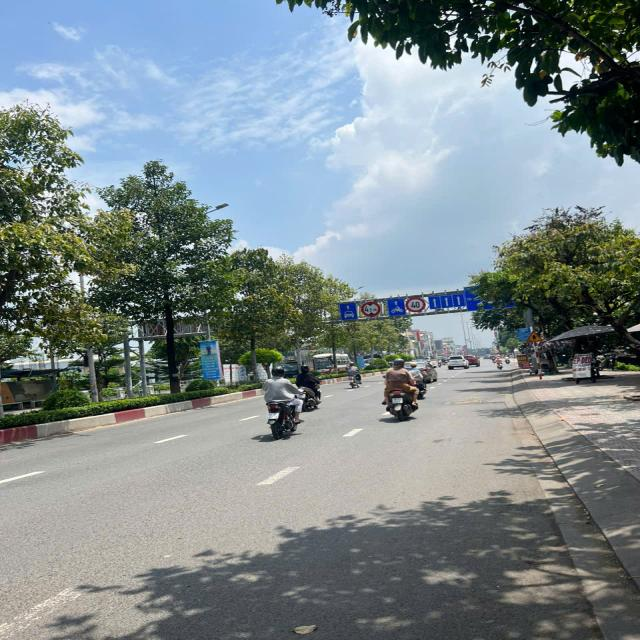car: (400, 359, 440, 384), (446, 356, 469, 370), (465, 354, 481, 366)
motobyte: (379, 363, 418, 420), (268, 371, 298, 439), (293, 365, 319, 408), (344, 362, 360, 388), (495, 357, 503, 370)
